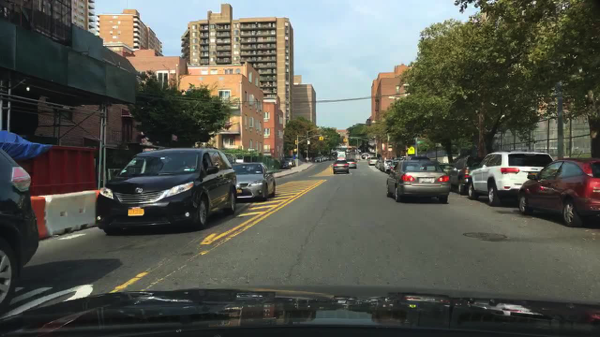car: (95, 147, 238, 237), (0, 147, 40, 312), (518, 157, 600, 228), (467, 151, 554, 206), (386, 159, 452, 203), (230, 162, 276, 201), (448, 154, 485, 195), (332, 158, 350, 175), (399, 154, 431, 161), (439, 163, 454, 177), (381, 158, 394, 173), (388, 160, 400, 175), (346, 158, 358, 169), (279, 159, 292, 169), (368, 156, 379, 166), (286, 158, 296, 168), (378, 158, 385, 171), (374, 157, 381, 168), (360, 151, 368, 159), (337, 151, 345, 158), (354, 154, 362, 161), (351, 147, 359, 154), (367, 154, 375, 160), (313, 157, 322, 162), (351, 148, 358, 154), (345, 151, 352, 156), (330, 155, 336, 160), (326, 155, 331, 161), (323, 155, 328, 161), (357, 149, 363, 154), (320, 156, 325, 161), (345, 149, 351, 152)
traffic light: (295, 139, 301, 146), (318, 135, 324, 141), (343, 138, 348, 144), (294, 148, 299, 153)
traffic sign: (408, 146, 416, 155), (171, 133, 178, 142), (388, 145, 393, 152), (307, 140, 311, 146)
